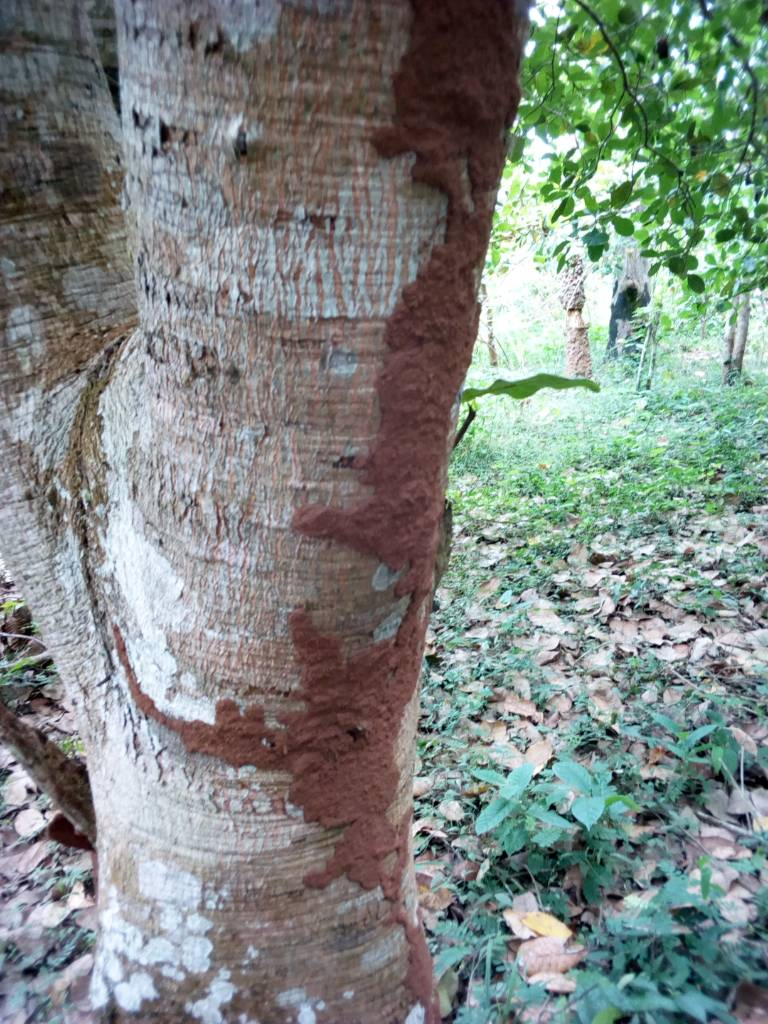Termites: (383, 3, 521, 594), (277, 617, 430, 994), (116, 647, 271, 772)
